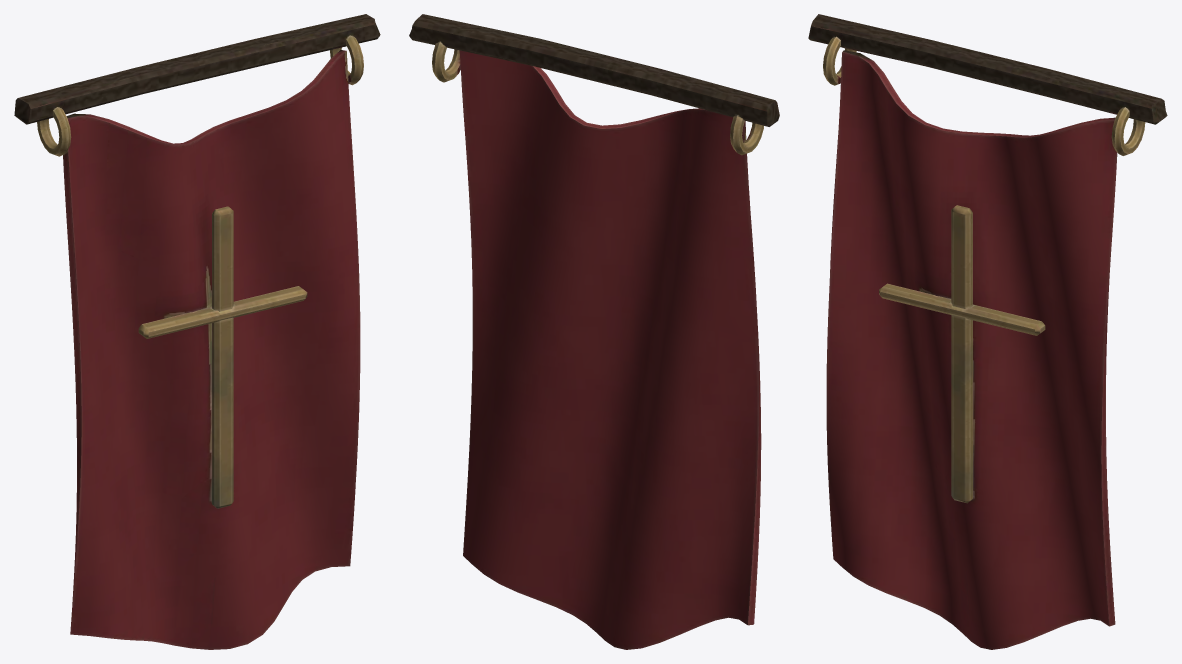
File: banner.glb
The picture shows the model from 3 angles, left to right: view 1: azimuth 30°, elevation 25°; view 2: azimuth 150°, elevation 25°; view 3: azimuth 330°, elevation 25°; orthographic projection. The views are drawn at different scales.
Visible parts, largest first — view 1: banner; view 2: banner; view 3: banner.
Boxes of the visible parts, x1,y1,x2,y2 form: banner: [14, 14, 380, 649]; banner: [409, 14, 779, 649]; banner: [808, 14, 1167, 649].
Size of the model in its own units: 0.83 by 1.29 by 0.1645.
Materials: 1 (1 with a texture image).
